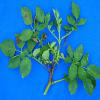Potato leaf late blight: (19, 5, 33, 26), (13, 33, 26, 50)
